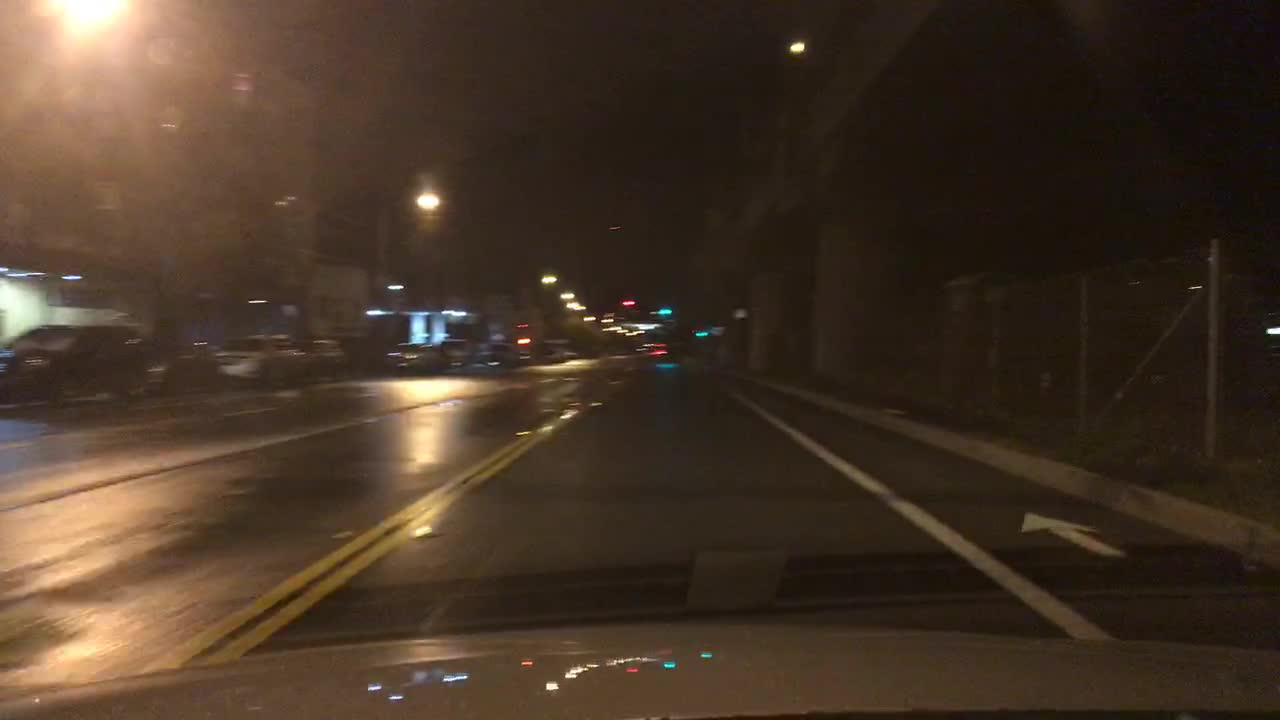car: (0, 321, 147, 405), (210, 335, 309, 387), (144, 345, 213, 396), (384, 340, 449, 374), (303, 338, 348, 378), (437, 336, 474, 368), (476, 340, 520, 366), (514, 333, 536, 364), (544, 338, 568, 360), (647, 342, 670, 357)
traffic light: (655, 305, 673, 315), (693, 329, 710, 338), (622, 298, 636, 306)
